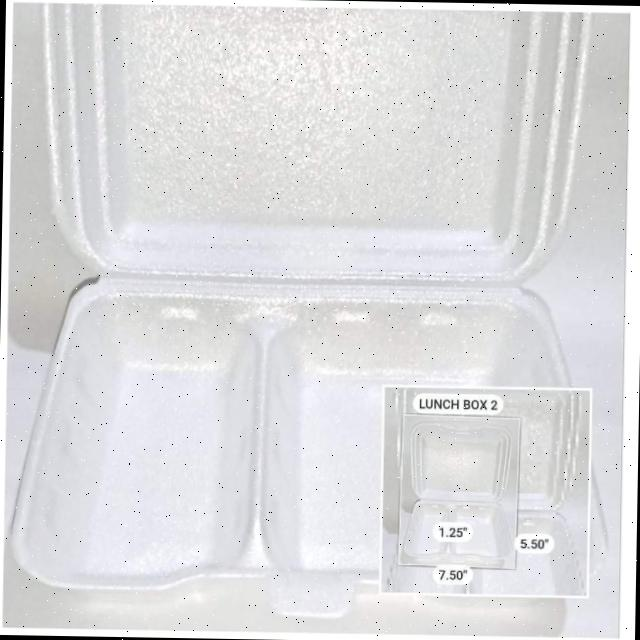styrofoam: (2, 1, 626, 634)
